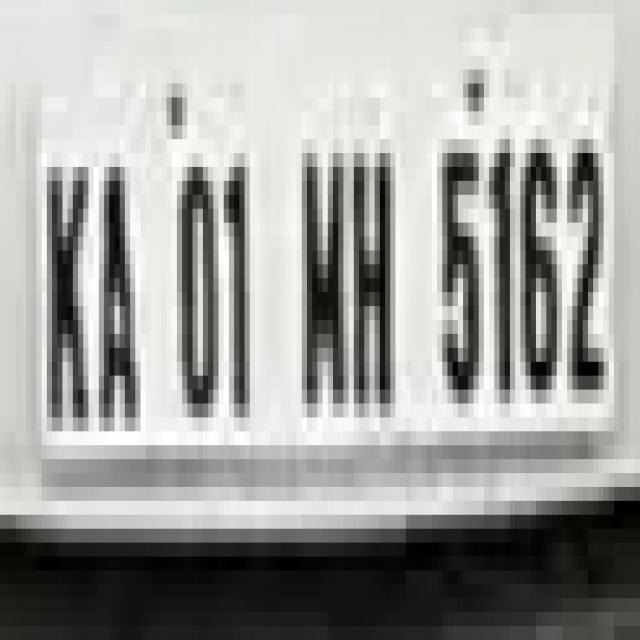0: (172, 160, 219, 426)
1: (223, 148, 259, 432), (484, 129, 519, 408)
5: (438, 138, 483, 408)
6: (522, 127, 562, 406)
A: (94, 156, 144, 422)
H: (352, 141, 394, 416)
K: (40, 153, 88, 435)
M: (298, 134, 348, 410)
